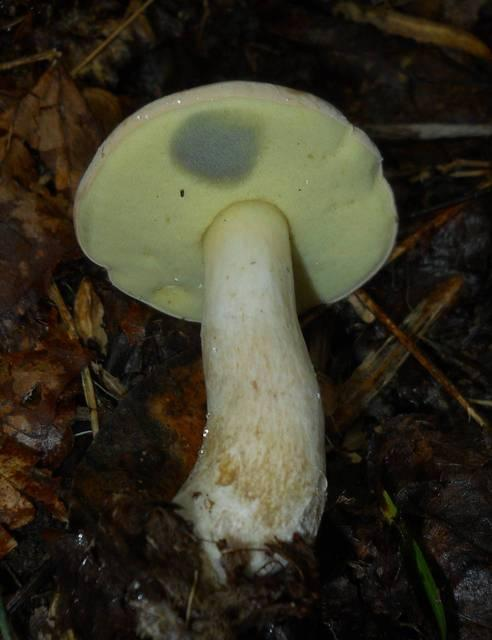edible_mushroom: (71, 78, 399, 589)
